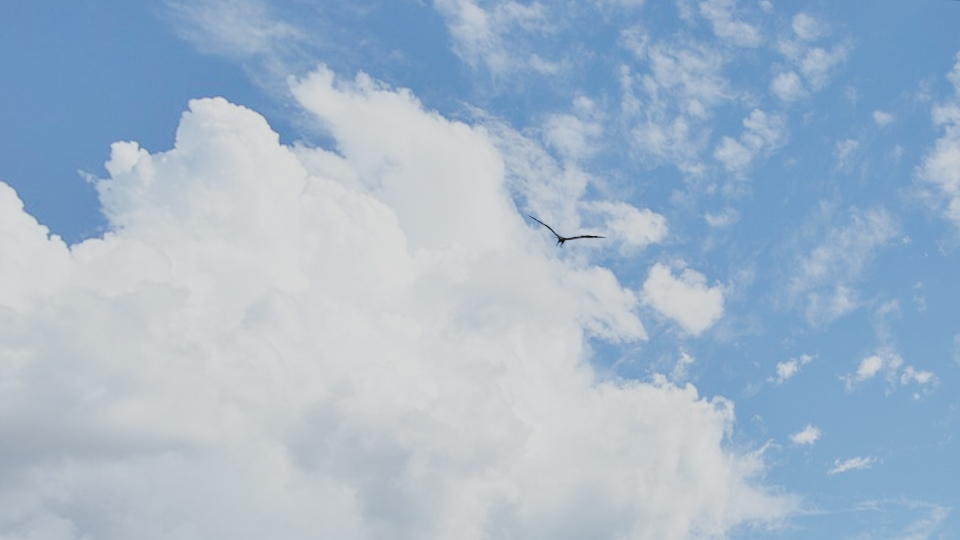bird: (523, 214, 607, 247)
